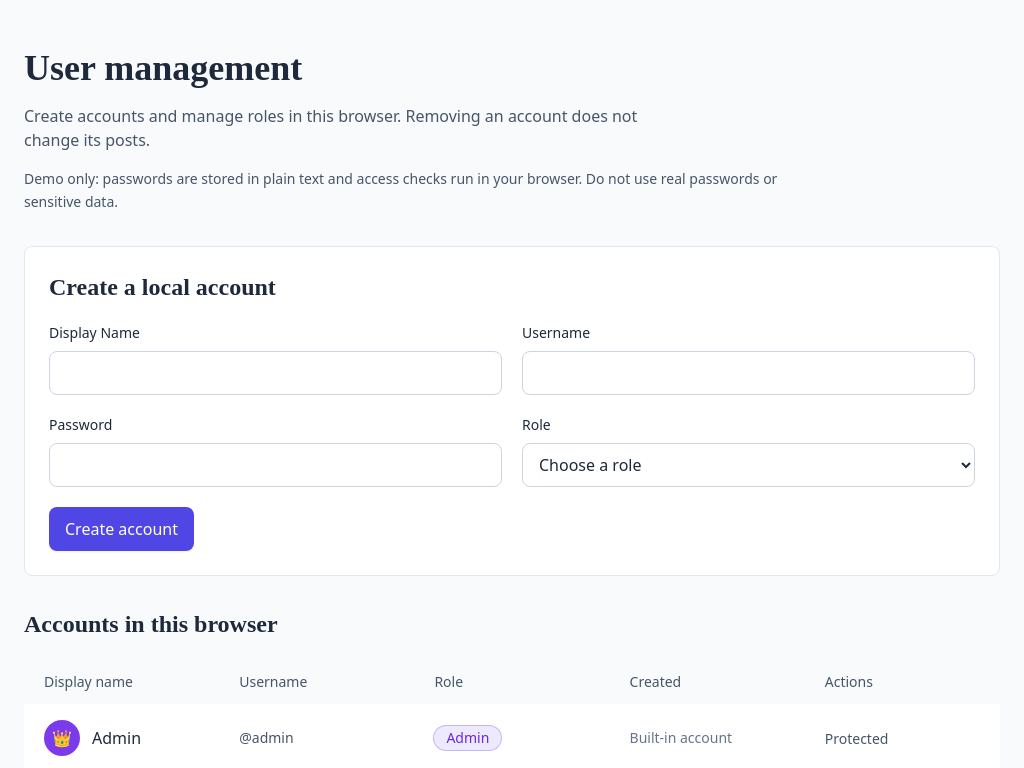
Test: retains form/list and shows actionable failure when creation cannot be saved
Step 1. Type "New Writer" into the field labelled "Display Name" → (276,372), box [49, 350, 502, 394]
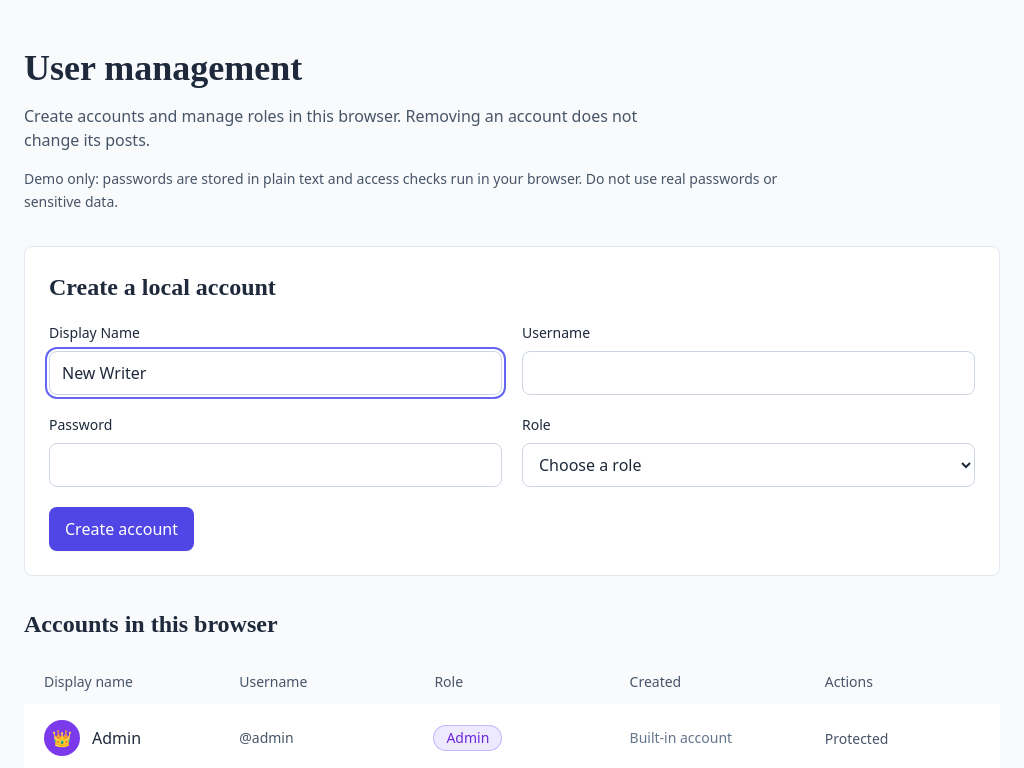
Step 2. Type "new-writer" into the field labelled "Username" → (748,372), box [522, 350, 975, 394]
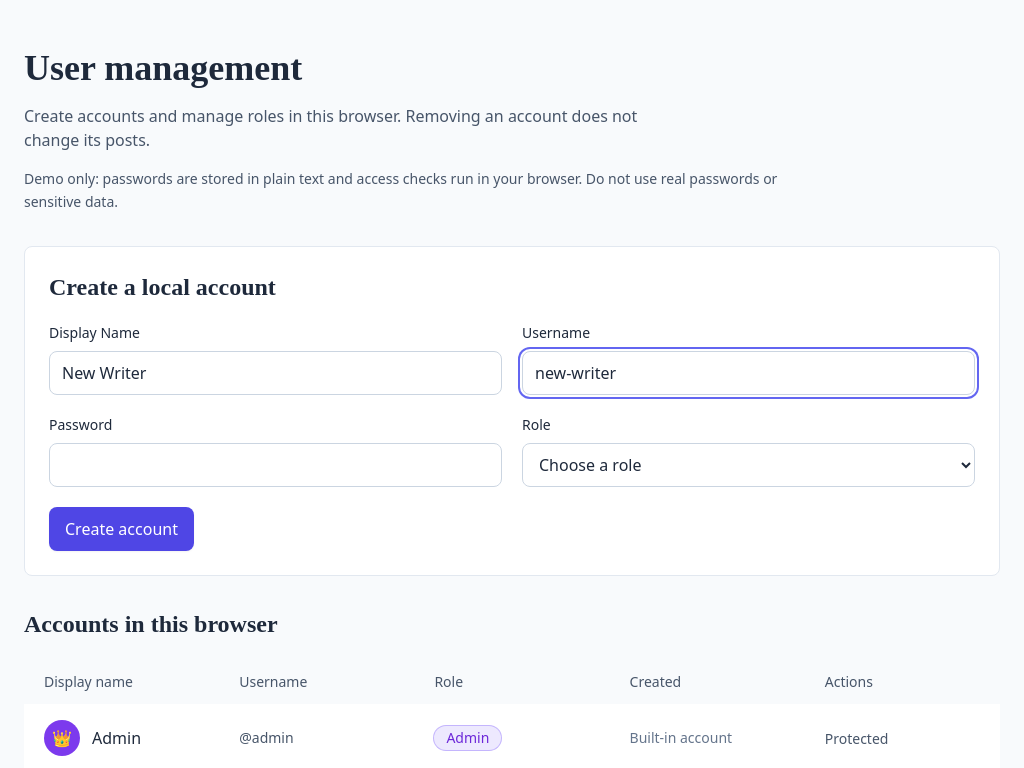
Step 3. Type "demo-only" into the password field labelled "Password" → (276,464), box [49, 442, 502, 486]
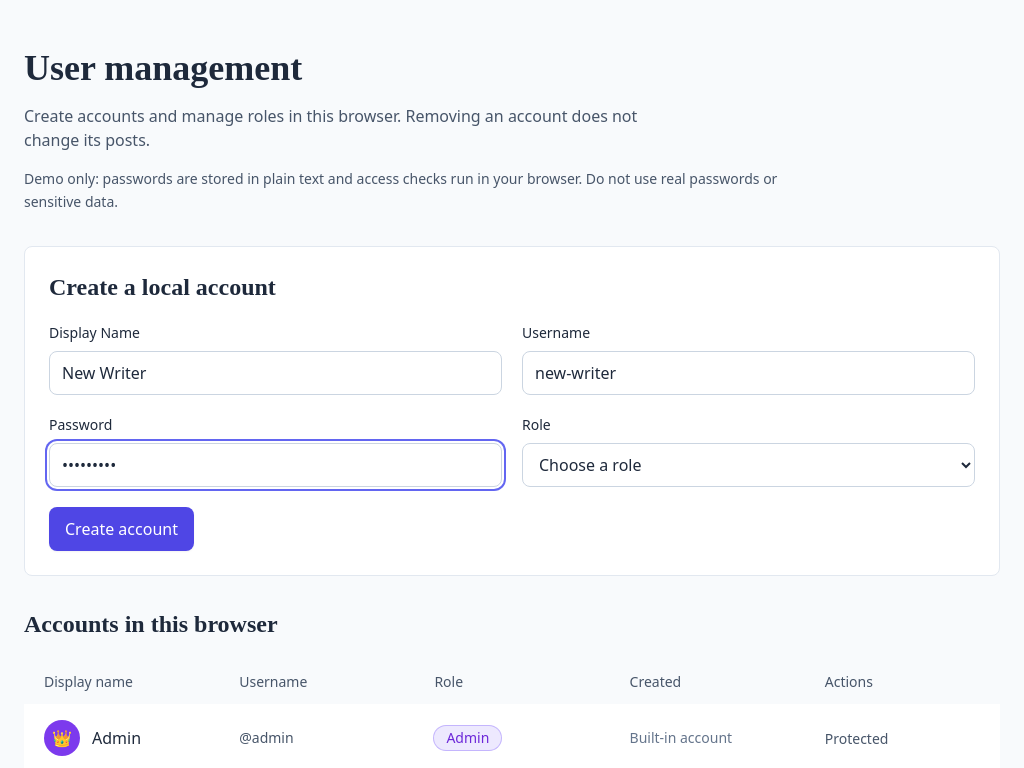
Step 4. Select "User" in the dropdown labelled "Role" → (748,464), box [522, 442, 975, 486]
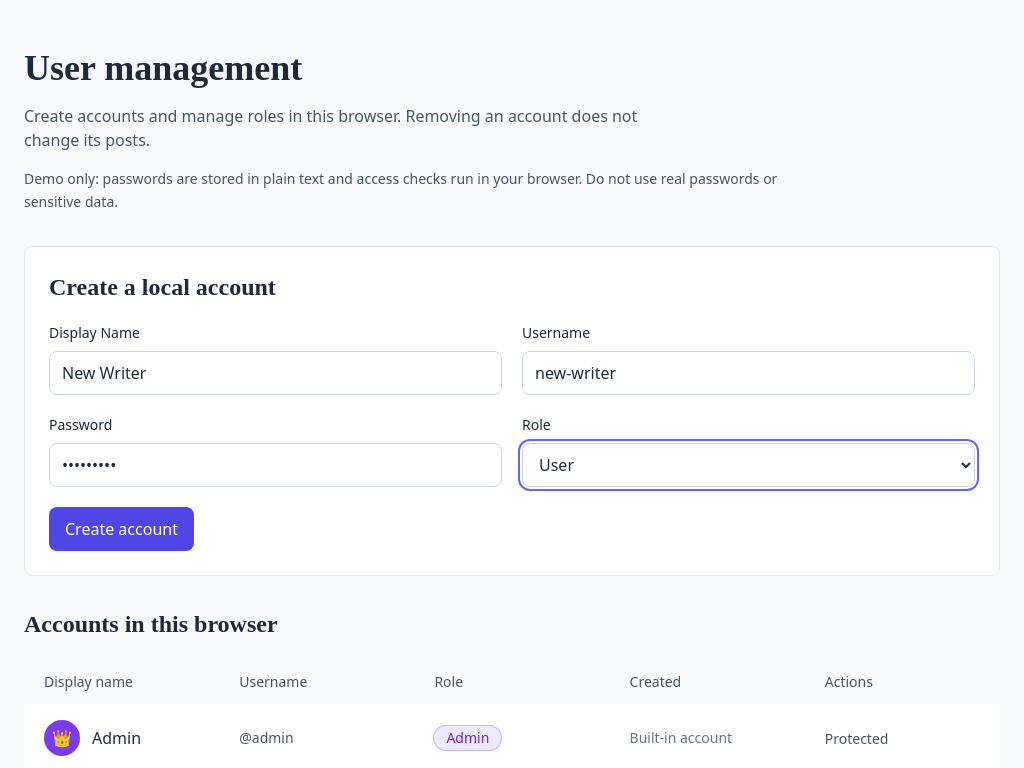
Step 5. Click the button "Create account" → (121,528), box [49, 506, 194, 550]
(page scrolled)
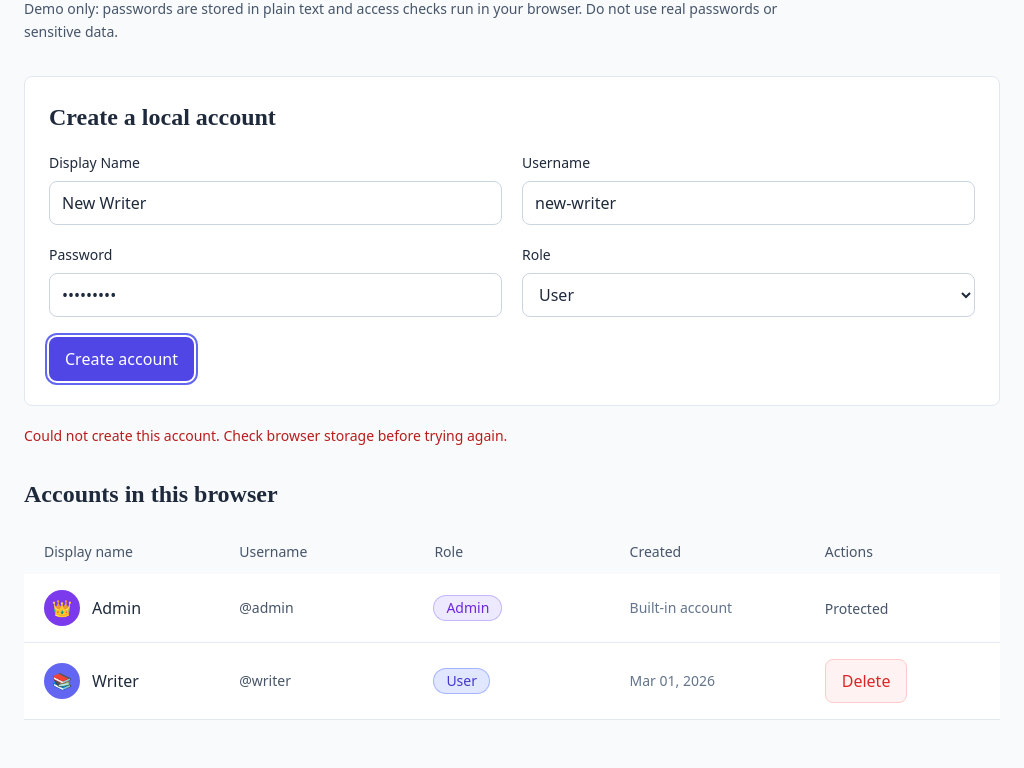
Expected: the message shows "Could not create this account", [24, 426, 507, 444]
